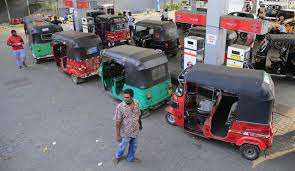tuk tuk: (165, 61, 277, 160), (97, 42, 167, 118), (52, 28, 97, 85), (251, 30, 295, 77), (134, 17, 181, 50), (27, 21, 51, 65), (101, 14, 132, 44)
